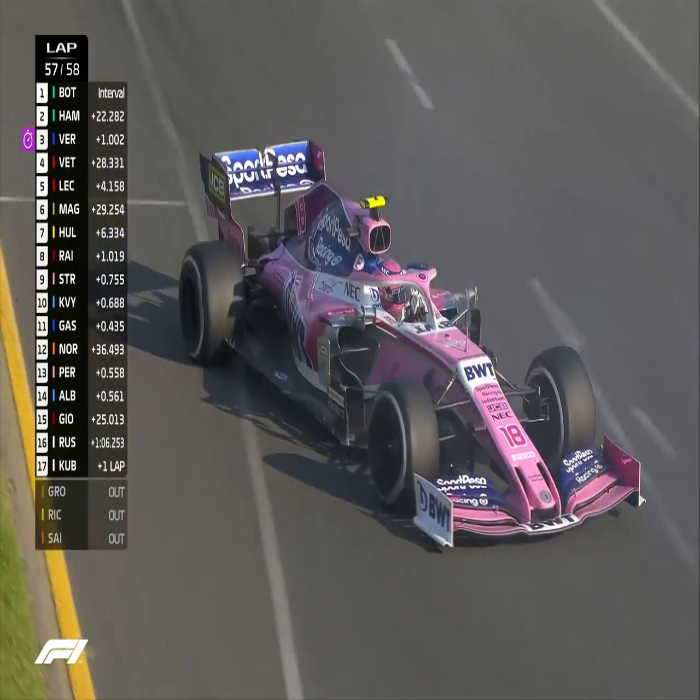f1_car: (167, 122, 665, 571)
